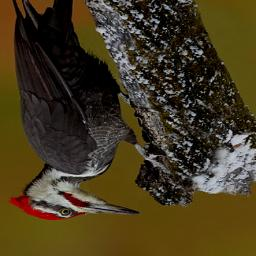Woodpecker: (7, 0, 168, 221)
